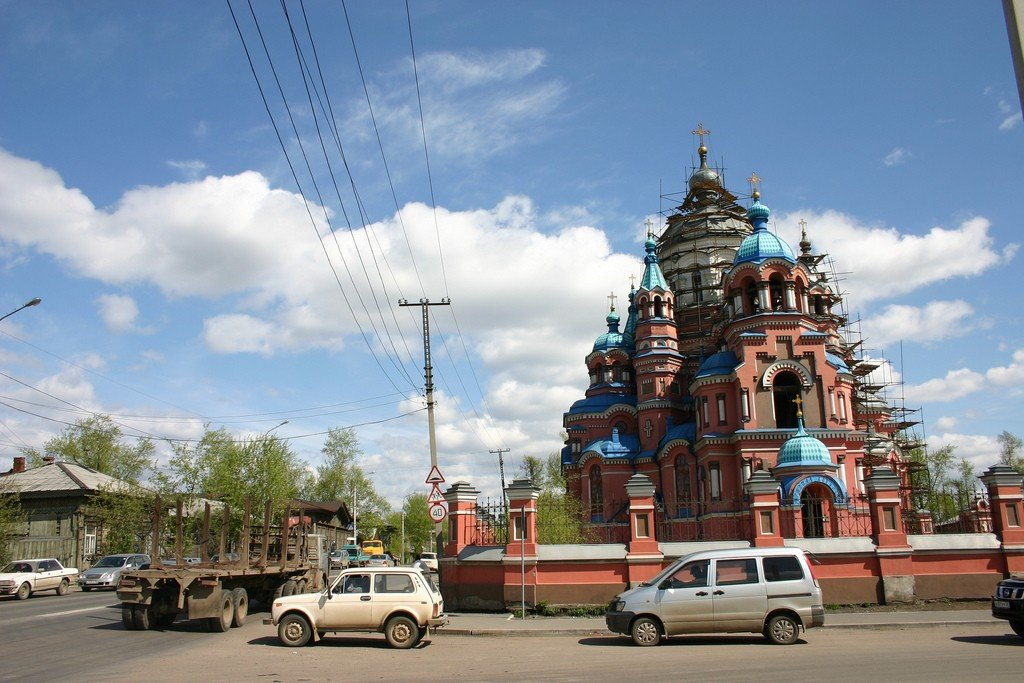sign: (422, 462, 448, 488), (425, 484, 447, 504), (428, 505, 448, 523)
